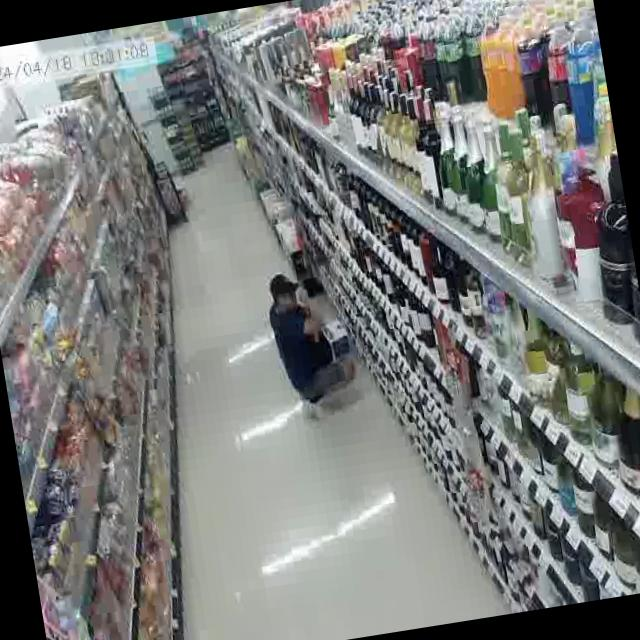shoplifting: (256, 256, 374, 437)
